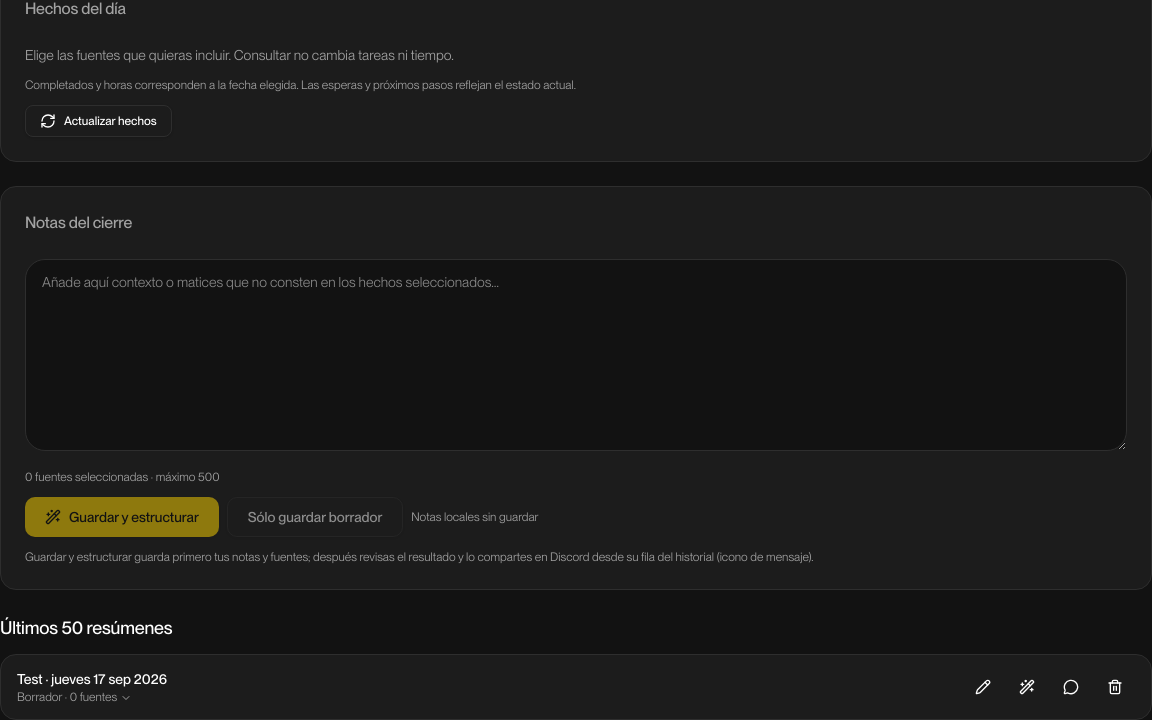
Delivery receipts › shows the receipt for a daily without AI data after queuing
(page scrolled)
Step 1. Click the button titled "Revisar y enviar a Discord" → (1071, 687), box [1051,667,1091,707]
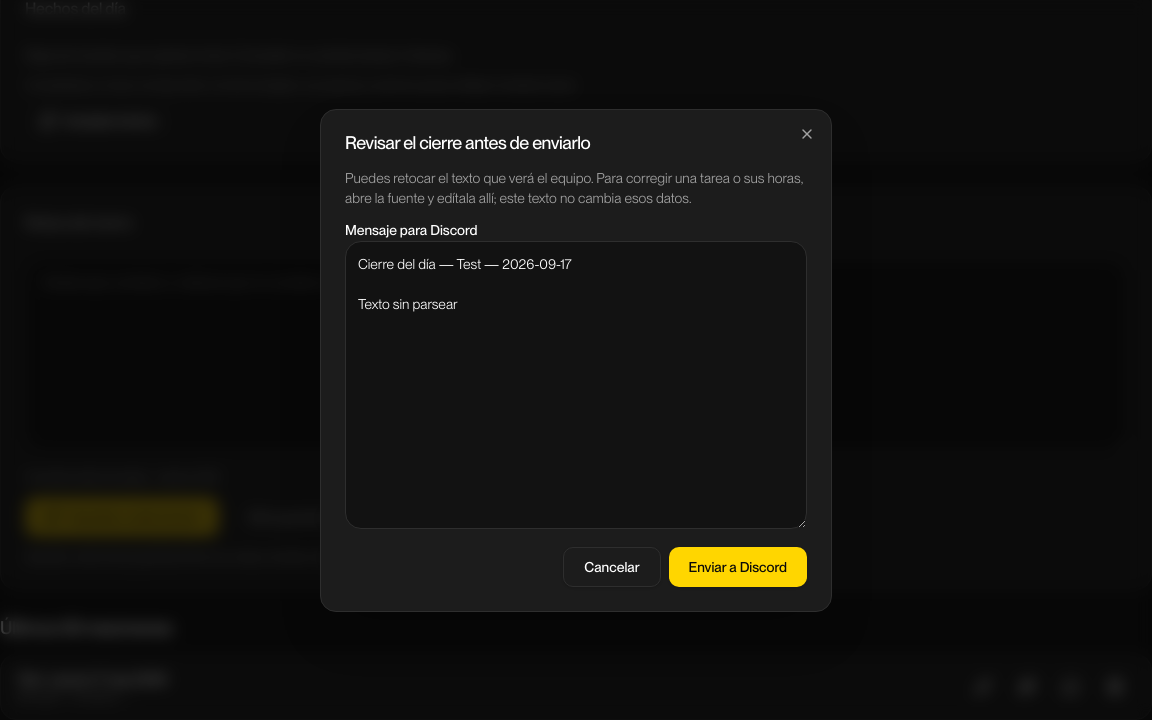
expect the dialog "Revisar el cierre antes de enviarlo" is shown: met, box [320,108,832,612]
Step 2. Click the button "Enviar a Discord" → (738, 566), box [669,546,807,586]
(page scrolled)
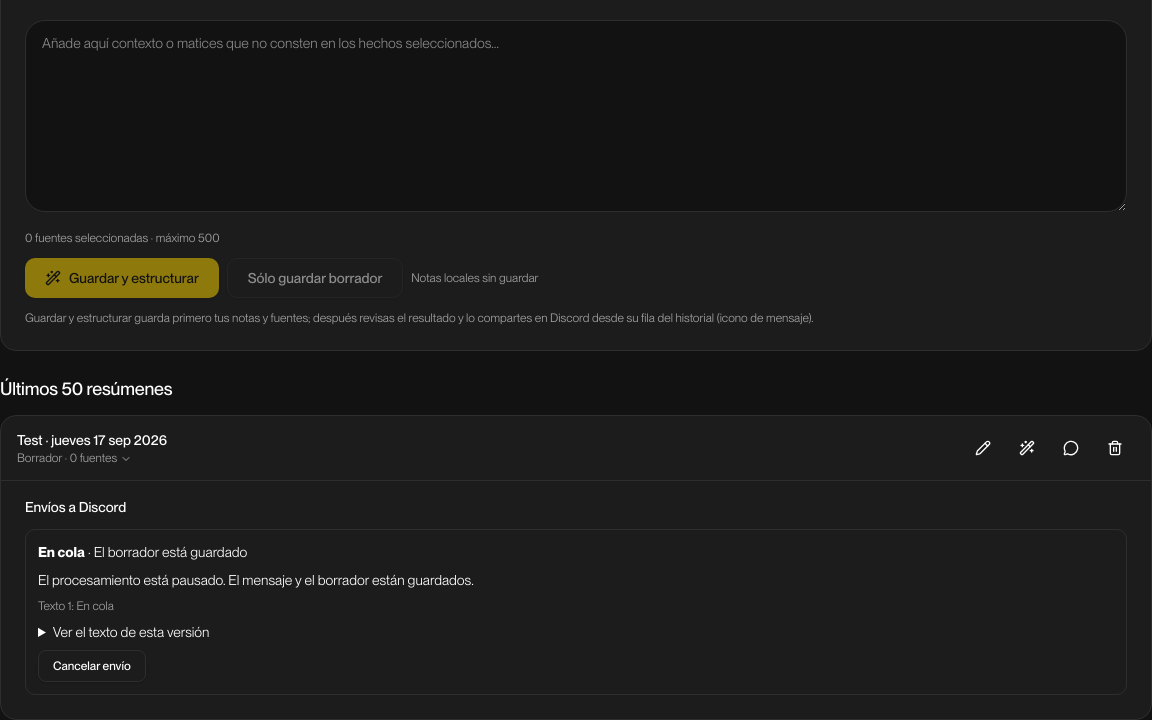
expect the element named "Recibos de Discord" is shown: met, box [25,497,1127,695]
